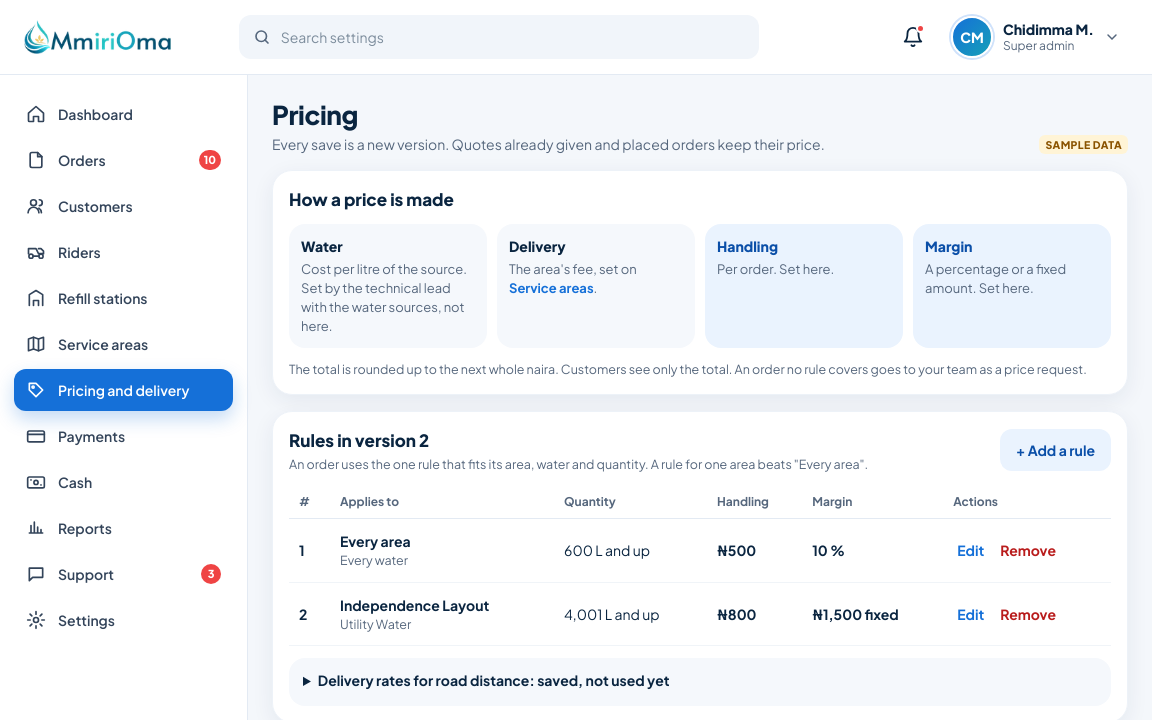
Test case: Pricing screen › refuses a rule under 600 litres in the sheet, before anything is sent
Click the button "+ Add a rule" at (1056, 450), box left=1000, top=429, right=1111, bottom=471
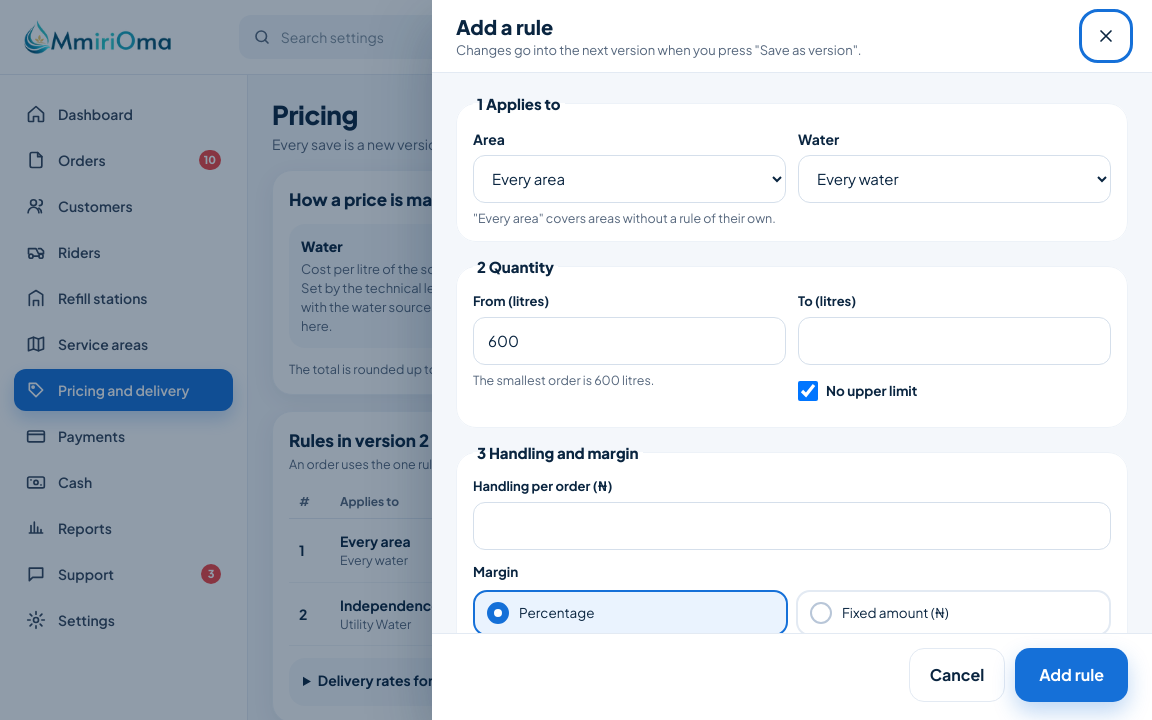
Replace the text in the field labelled "From (litres)" with "500" at (630, 341), box left=473, top=317, right=786, bottom=365
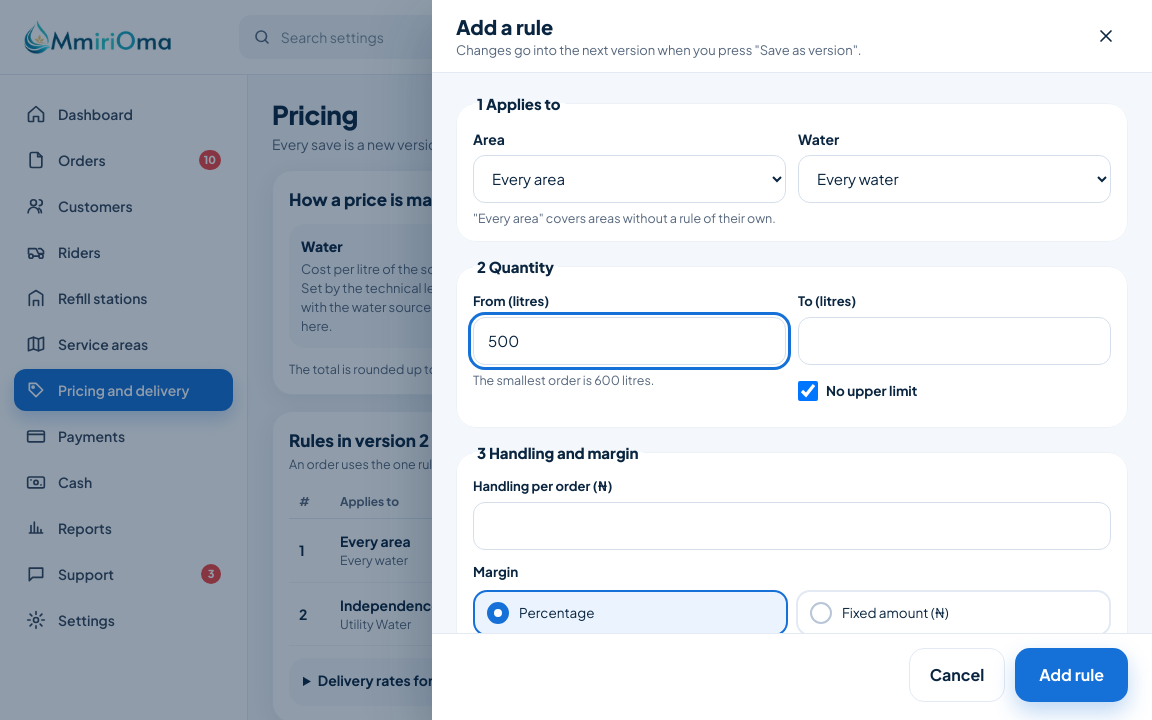
Click the button "Add rule" at (1072, 675), box left=1015, top=648, right=1128, bottom=702
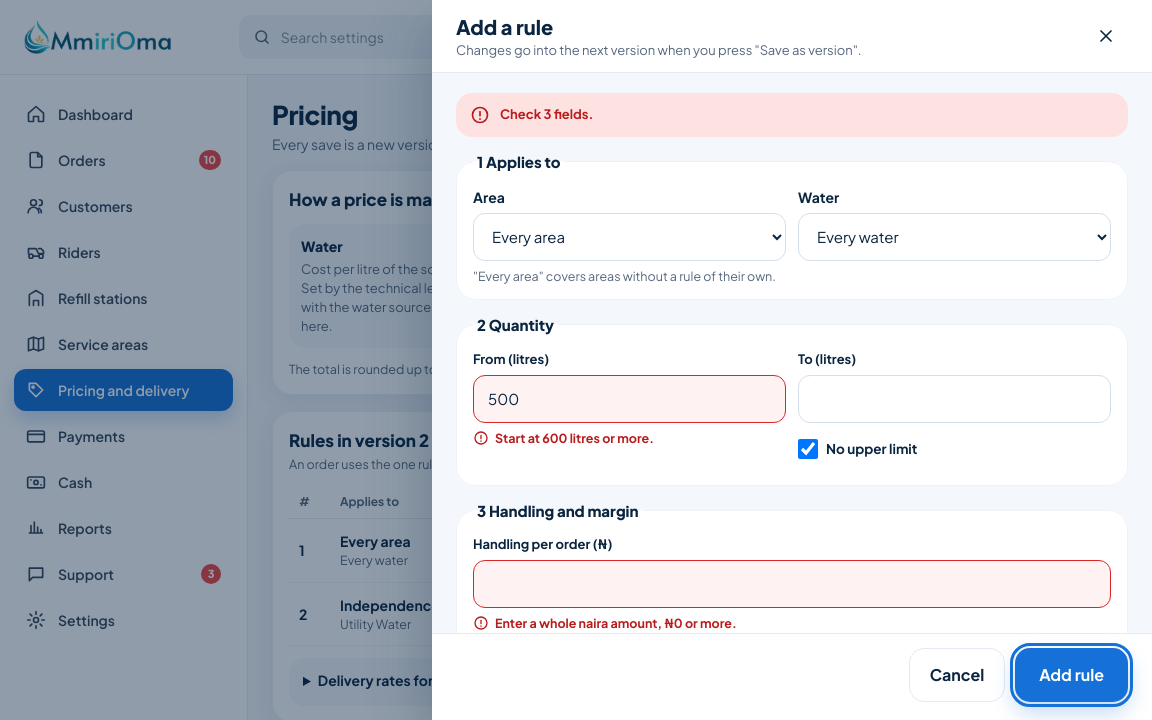
Expected: the text "Start at 600 litres or more." is shown, left=473, top=430, right=654, bottom=446
Expected: the text "Check 3 fields." is shown, left=500, top=106, right=593, bottom=122
